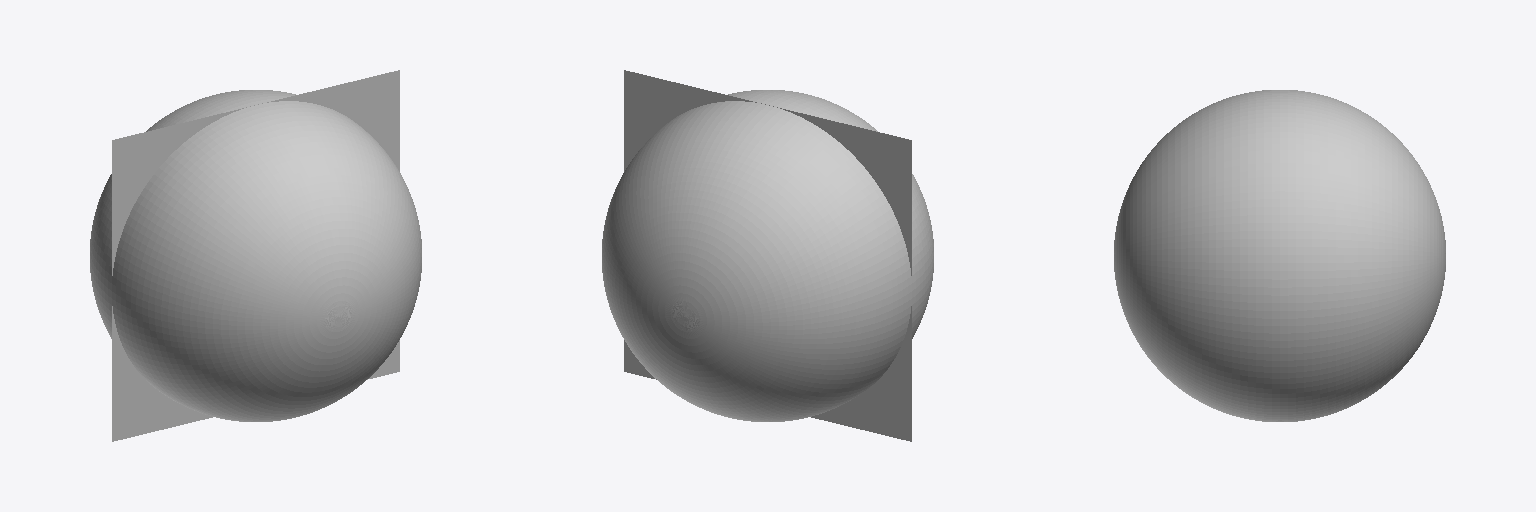
Rendered from forest_leaves_02_4k.obj.
3 renders of one model, left to right at view 1: azimuth 30°, elevation 25°; view 2: azimuth 150°, elevation 25°; view 3: azimuth 270°, elevation 25°, orthographic.
Visible parts, largest first — view 1: Sphere, Plane; view 2: Sphere, Plane; view 3: Sphere.
Part boxes in pixels (bbox=[...]): Sphere: bbox=[90, 90, 421, 421]; Plane: bbox=[112, 70, 399, 441]; Sphere: bbox=[602, 90, 933, 421]; Plane: bbox=[624, 70, 911, 441]; Sphere: bbox=[1114, 90, 1445, 421].
Size of the model in its own units: 3 by 3 by 3.